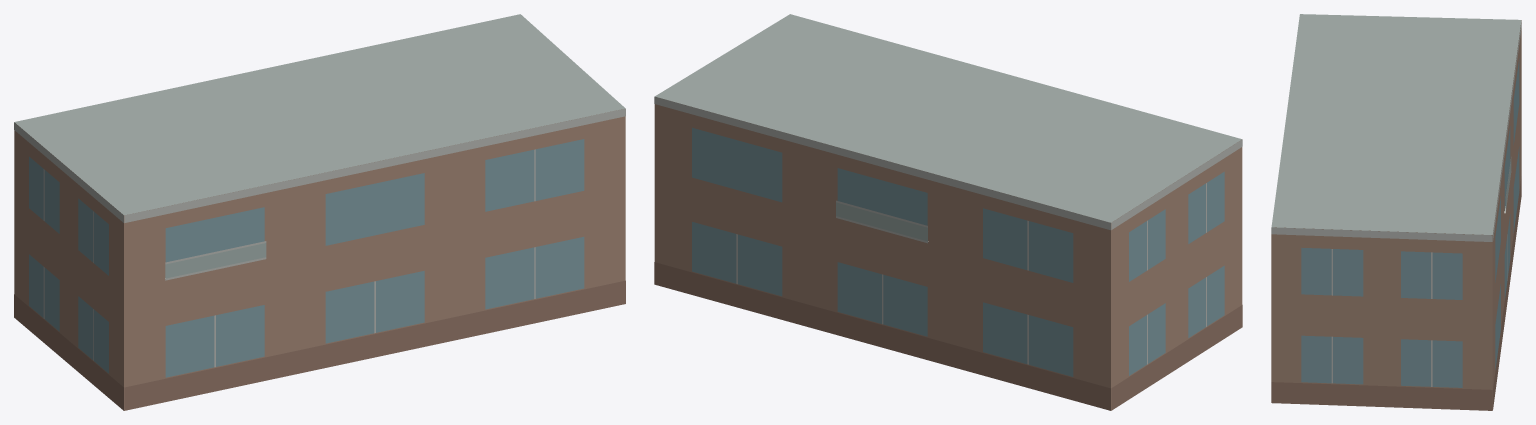
Rendered from survey-upis-32646709.glb.
The picture shows the model from 3 angles, left to right: view 1: azimuth 30°, elevation 25°; view 2: azimuth 150°, elevation 25°; view 3: azimuth 270°, elevation 25°; orthographic projection. The views are drawn at different scales.
Visible parts, largest first — view 1: survey-upis-32646709.tmp; view 2: survey-upis-32646709.tmp; view 3: survey-upis-32646709.tmp.
Boxes of the visible parts, left/top/right/bottom form: survey-upis-32646709.tmp: left=14, top=14, right=625, bottom=410; survey-upis-32646709.tmp: left=654, top=14, right=1242, bottom=410; survey-upis-32646709.tmp: left=1271, top=14, right=1521, bottom=410.
Size of the model in its own units: 16.47 by 6.1 by 7.88.
